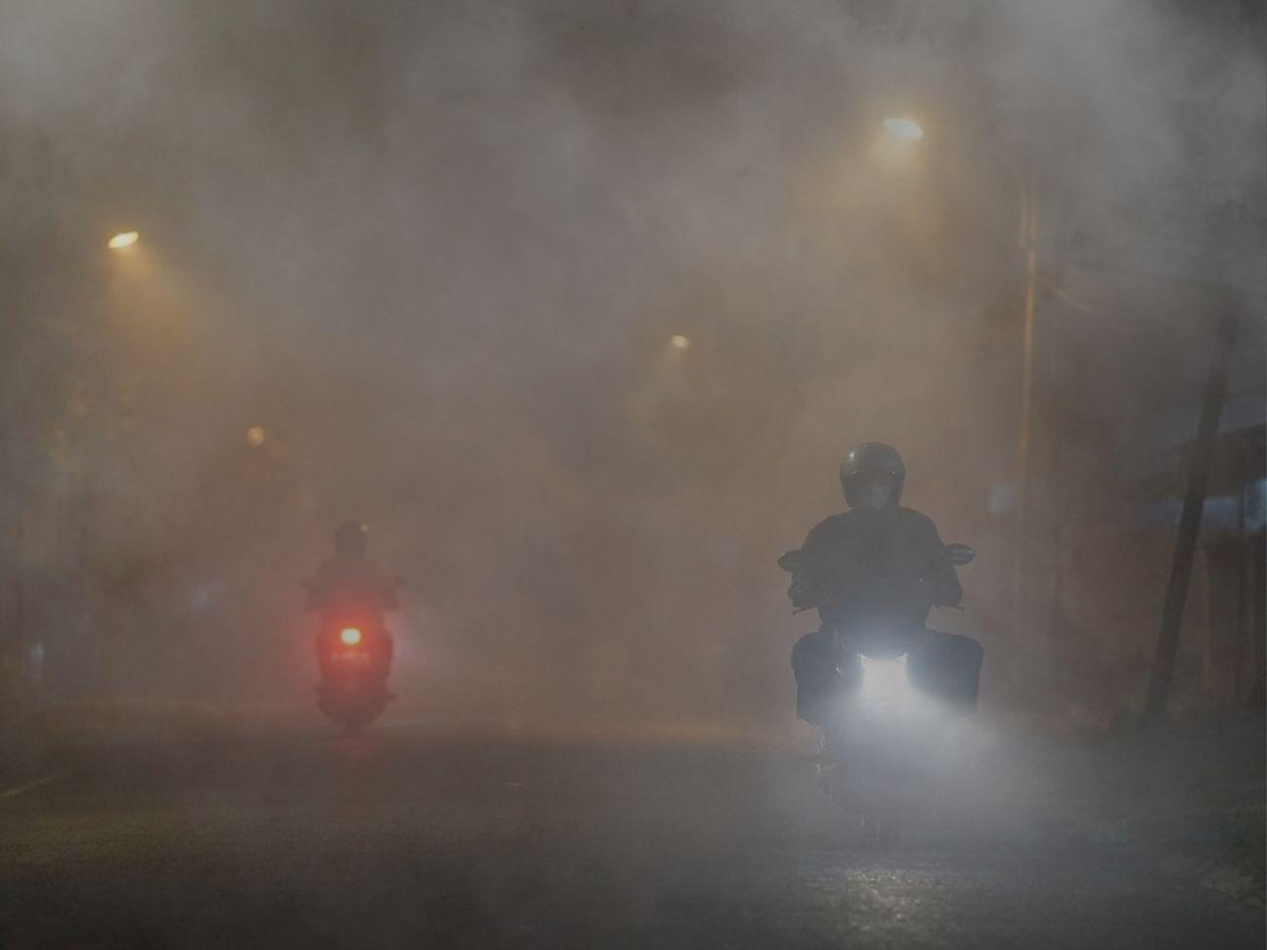Deteksi-Objek-Citra-Berasap: (0, 0, 1267, 841)
Kendaraan: (777, 542, 984, 842), (312, 603, 397, 741)
Manusia: (788, 442, 982, 726), (303, 522, 406, 666)
